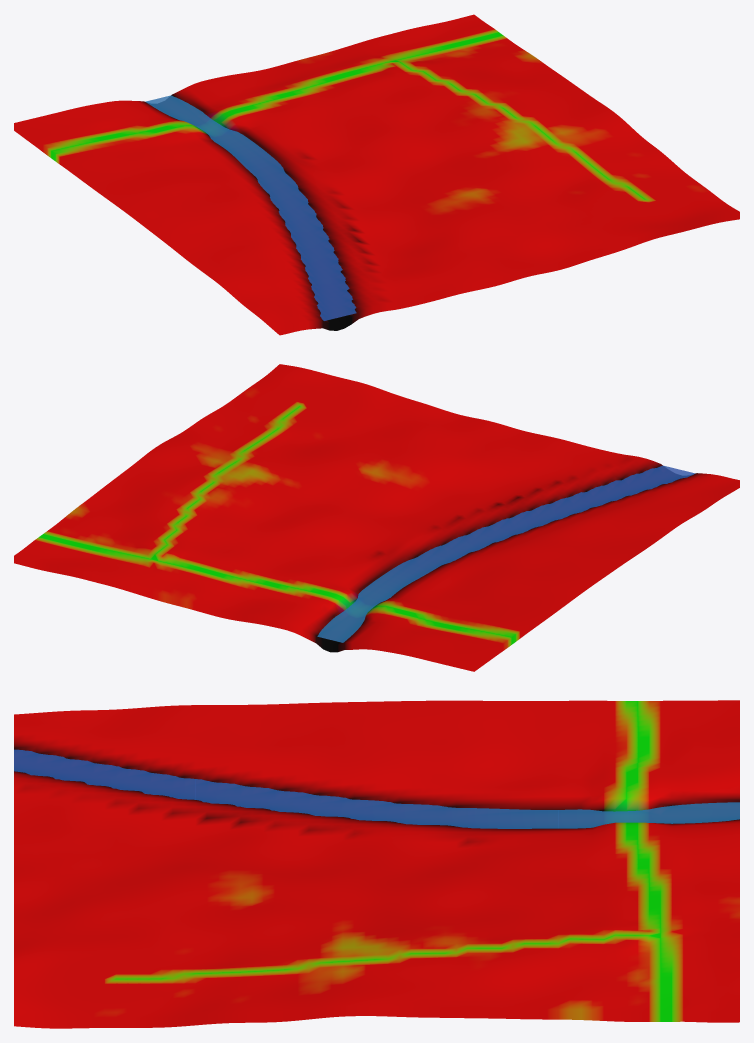
The model's file is chunk_5_4.glb.
3 renders of one model, top to bottom at view 1: azimuth 30°, elevation 25°; view 2: azimuth 150°, elevation 25°; view 3: azimuth 270°, elevation 25°, orthographic. The views are drawn at different scales.
Visible parts, largest first — view 1: LOD0, Water; view 2: LOD0, Water; view 3: LOD0, Water.
Boxes of the visible parts, left/top/right/bottom form: LOD0: left=14, top=14, right=739, bottom=335; Water: left=145, top=95, right=356, bottom=320; LOD0: left=14, top=364, right=739, bottom=671; Water: left=317, top=465, right=695, bottom=642; LOD0: left=14, top=700, right=739, bottom=1028; Water: left=14, top=749, right=739, bottom=828.
Size of what is drawn, in the model's own units: 256 by 15.61 by 256.
